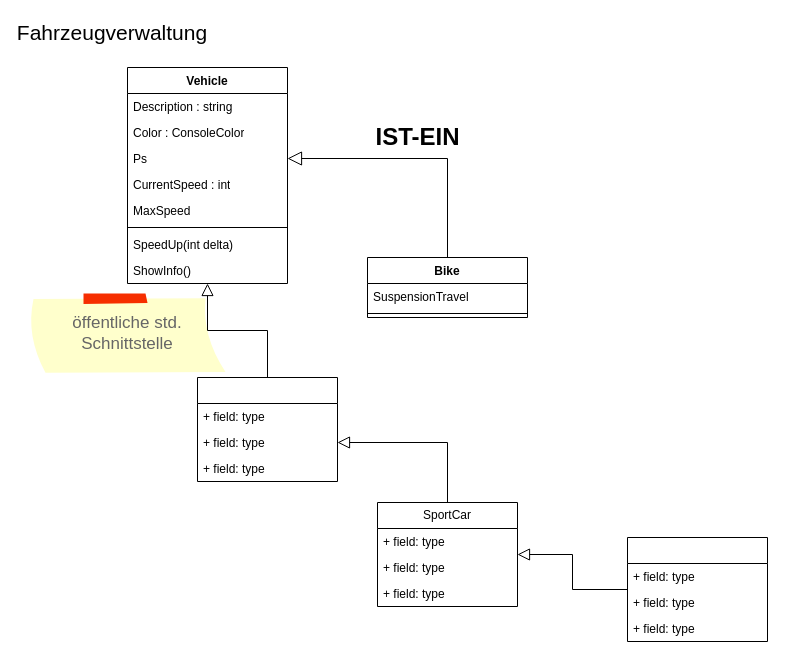
Image size: 785x661. Some labels were removed from this diagram. The box of each missing label's shape, as (x1, y1, x2, y2) in pixels:
Car: (196, 376, 338, 482)
Ferrari: (626, 536, 768, 642)
